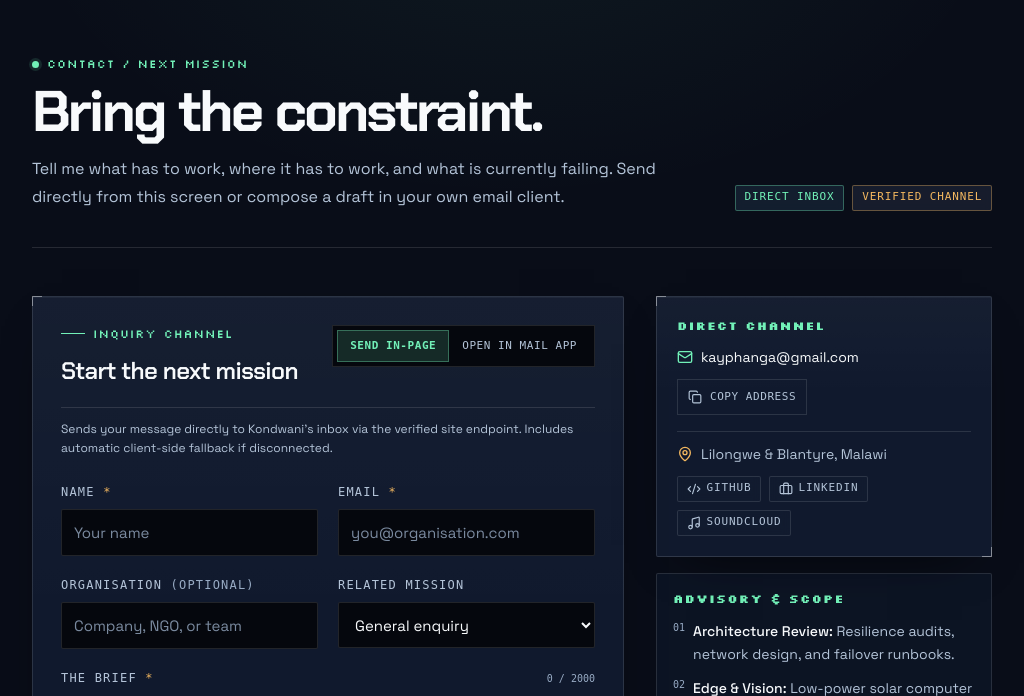
Test: <ContactView /> › copies the prepared draft text to clipboard on demand
The width and height of the screenshot is (1024, 696).
Type "Sarah Connor" into the field labelled "Name *" at (190, 533), box [61,509,318,556]
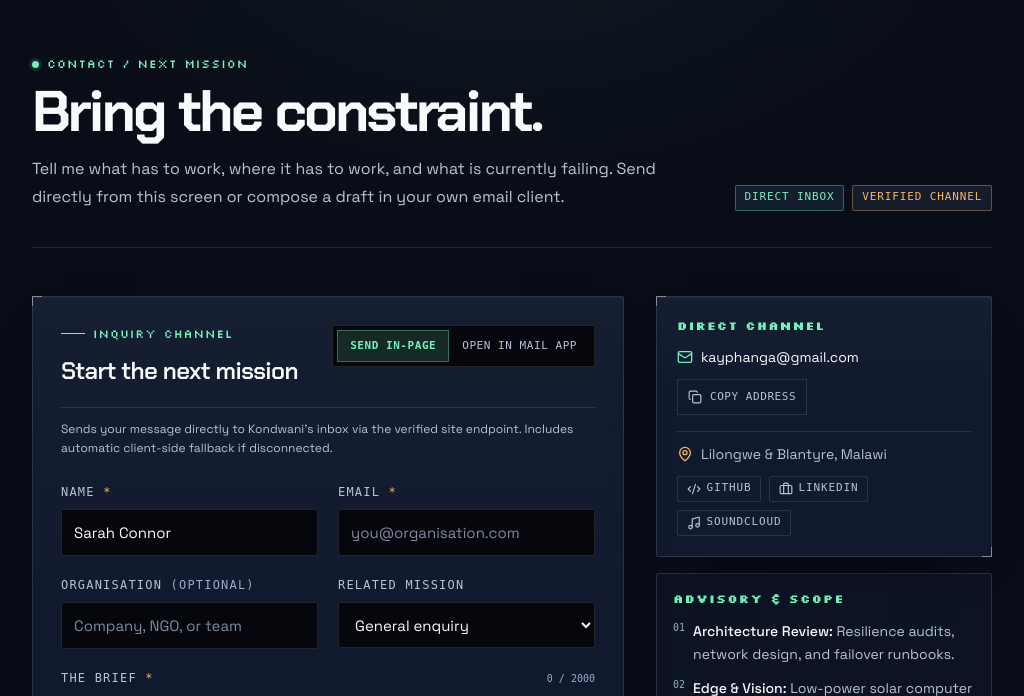
Type "sarah@example.com" into the field labelled "Email *" at (466, 533), box [338,509,595,556]
(page scrolled)
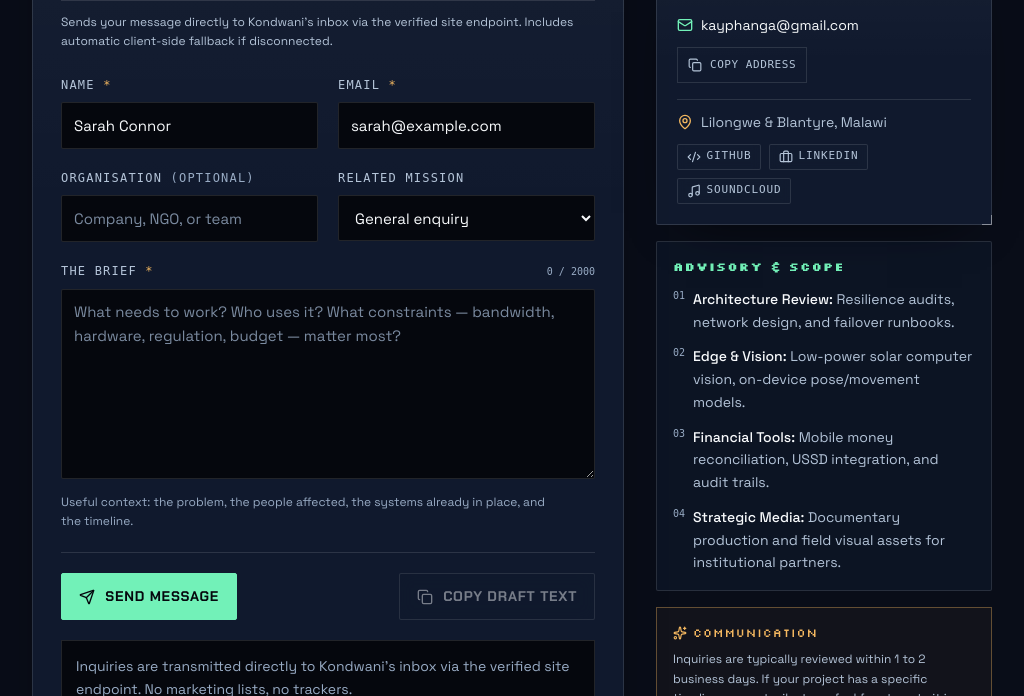
Replace the text in the text box labelled "The brief *" with "Looking for a technical consultant to review our architecture." at (328, 384), box [61,289,595,479]
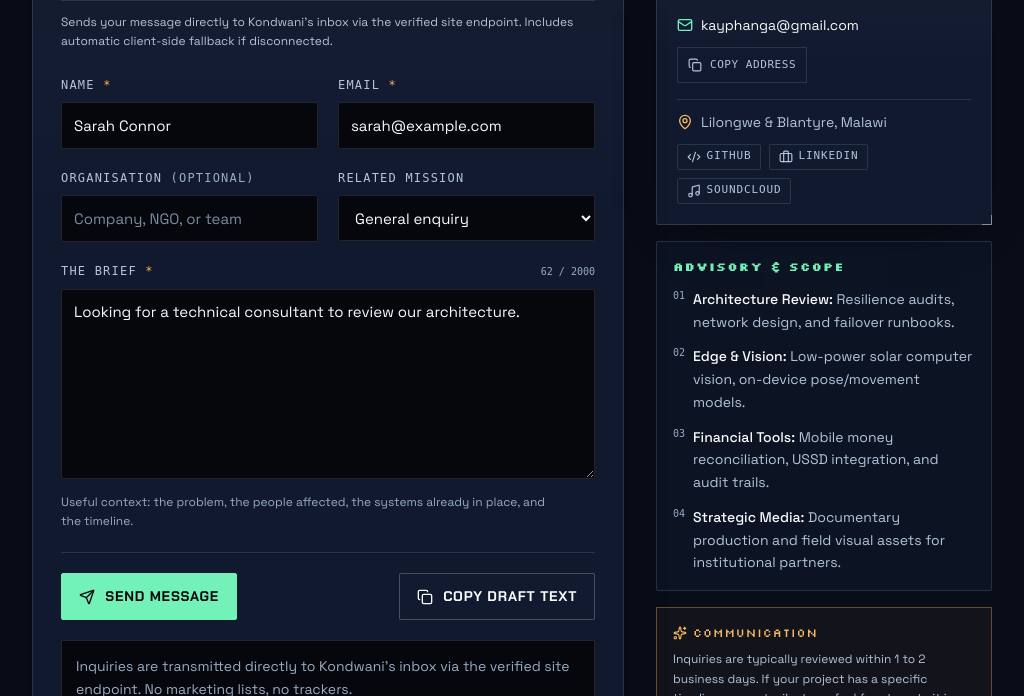
Click the button "Copy draft text" at (497, 597), box [399,573,595,620]
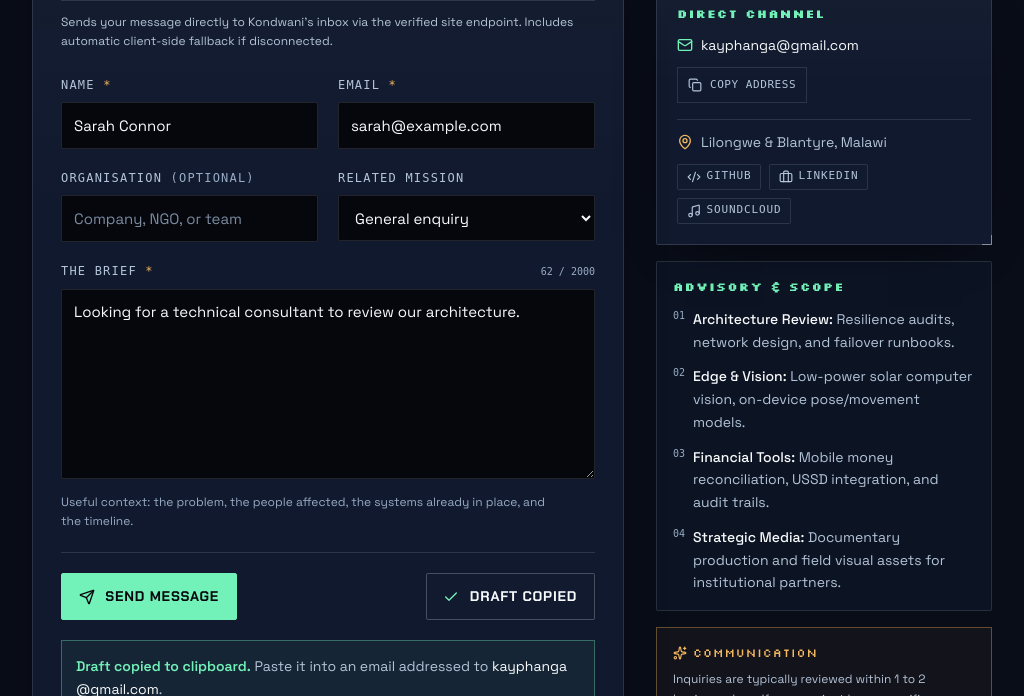
Result: the text "Draft copied to clipboard." is shown at [76,657,251,675]
